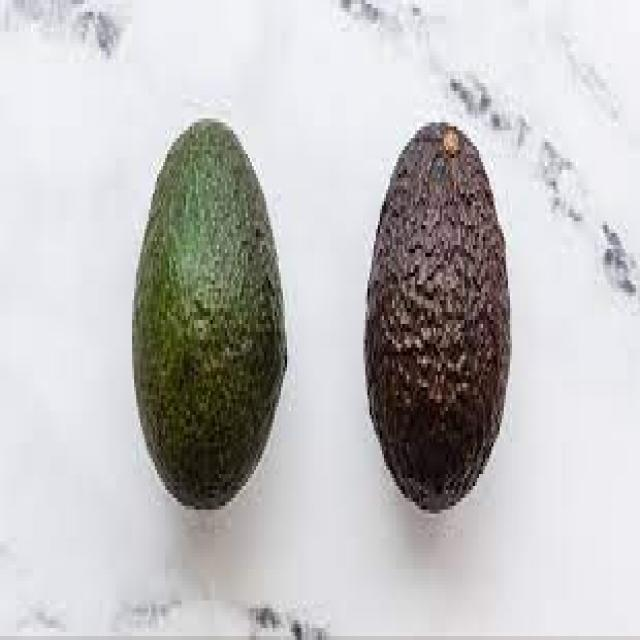avocado: (132, 118, 287, 512), (367, 124, 512, 514)
